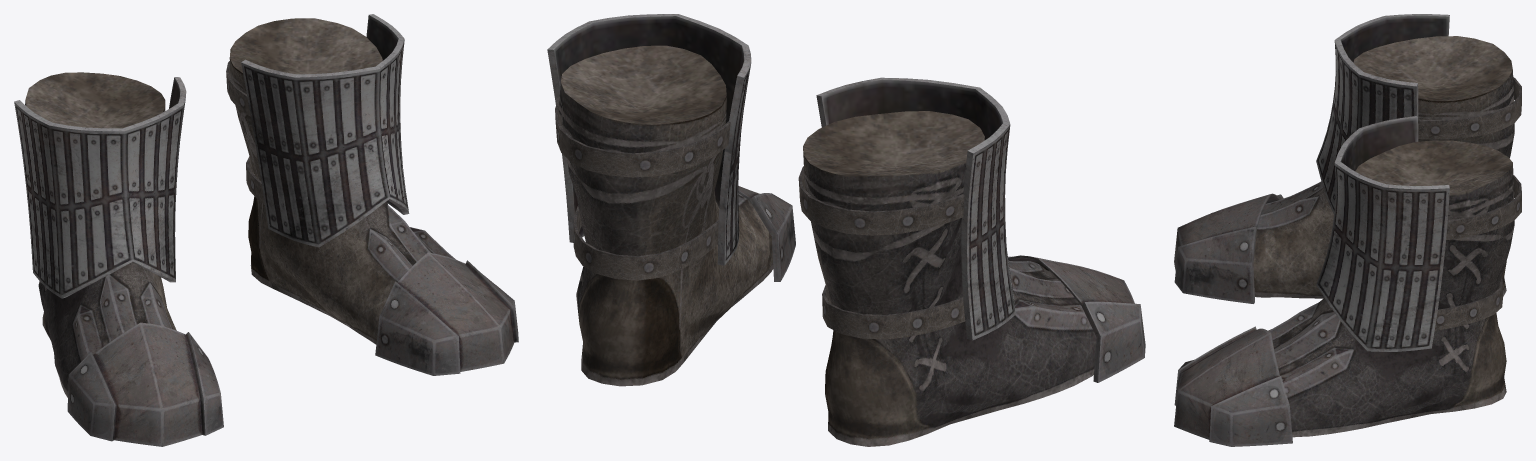
Rendered from sk_dwarf_iron_boots_heavy_a2.fbx.
The picture shows the model from 3 angles, left to right: view 1: azimuth 30°, elevation 25°; view 2: azimuth 150°, elevation 25°; view 3: azimuth 270°, elevation 25°; orthographic projection. The views are drawn at different scales.
Visible parts, largest first — view 1: sk_dwarf_iron_boots_heavy_a2.0, sk_dwarf_iron_boots_heavy_a2.1; view 2: sk_dwarf_iron_boots_heavy_a2.0, sk_dwarf_iron_boots_heavy_a2.1; view 3: sk_dwarf_iron_boots_heavy_a2.0, sk_dwarf_iron_boots_heavy_a2.1.
Part boxes in pixels (x1,y1,x2,y2): sk_dwarf_iron_boots_heavy_a2.0: (14, 14, 518, 446); sk_dwarf_iron_boots_heavy_a2.1: (226, 61, 264, 204); sk_dwarf_iron_boots_heavy_a2.0: (547, 14, 1145, 446); sk_dwarf_iron_boots_heavy_a2.1: (555, 97, 965, 339); sk_dwarf_iron_boots_heavy_a2.0: (1174, 14, 1514, 446); sk_dwarf_iron_boots_heavy_a2.1: (1418, 77, 1521, 330).
Bounding box in the file's own units: 0.5675 × 0.4046 × 0.3132.
Materials: 2 (2 with a texture image).
